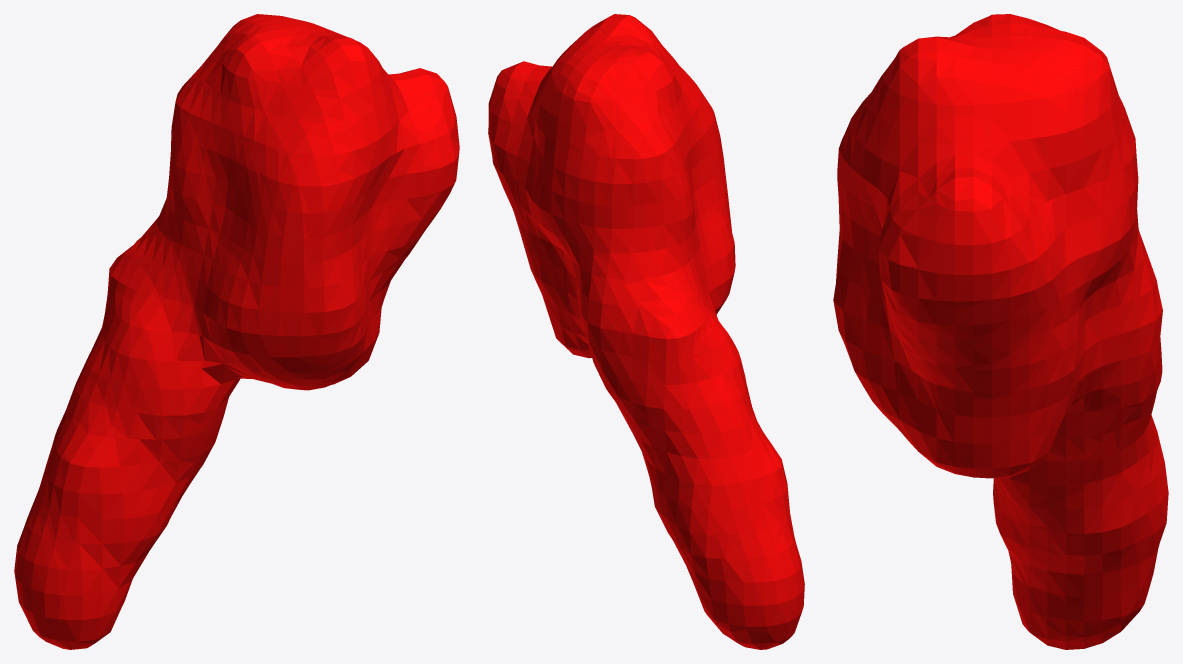
File: ydcY_coarse.dae
The picture shows the model from 3 angles, left to right: view 1: azimuth 30°, elevation 25°; view 2: azimuth 150°, elevation 25°; view 3: azimuth 270°, elevation 25°; orthographic projection. The views are drawn at different scales.
Parts seen in each view (by area): view 1: ydcY; view 2: ydcY; view 3: ydcY.
Part boxes in pixels (x1=…): ydcY: x1=14, y1=14, x2=459, y2=649; ydcY: x1=488, y1=14, x2=804, y2=649; ydcY: x1=833, y1=14, x2=1168, y2=649.
Bounding box in the file's own units: 41.77 × 62.48 × 25.95.
